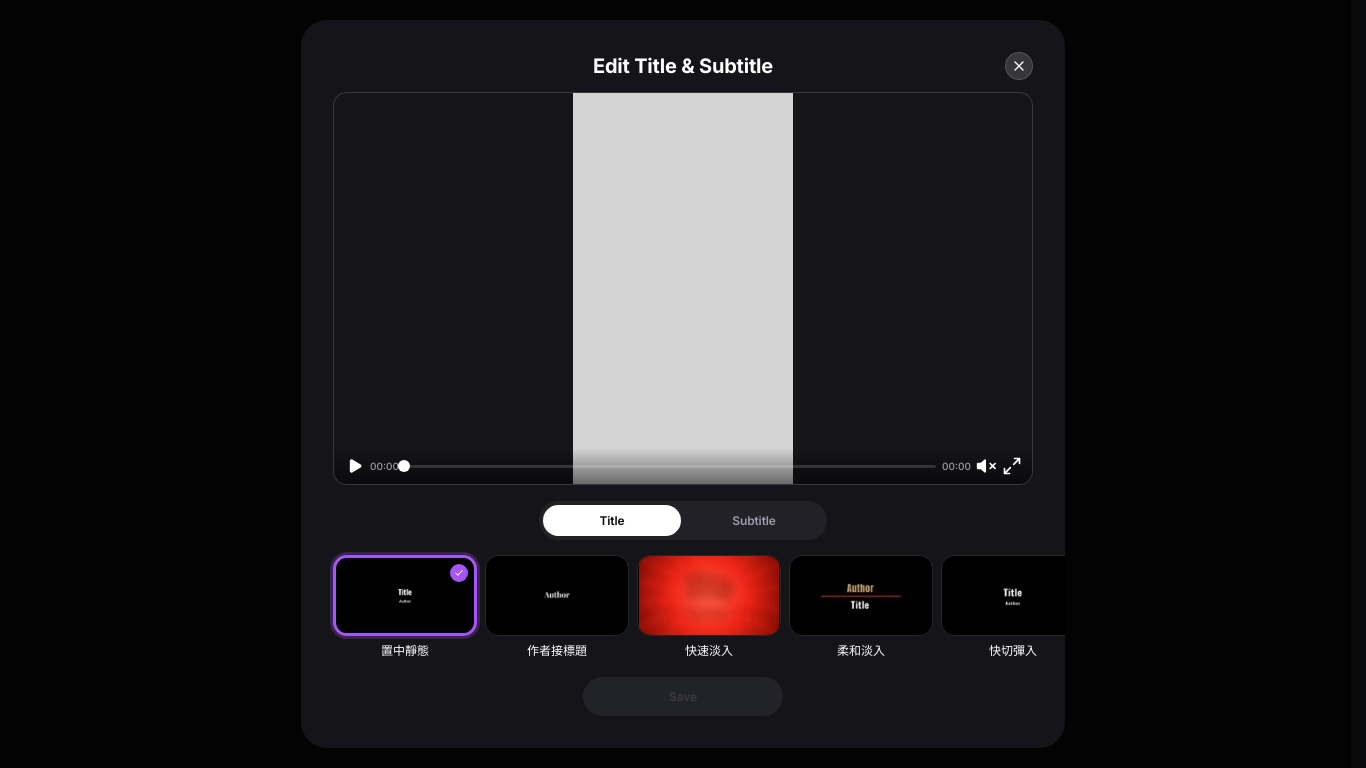
Test case: MV effects draft boundaries › retains tab drafts and disables Save when every choice is reverted
Step 1. Click the radio button labelled "作者接標題" → (557, 608), box [485,555,629,660]
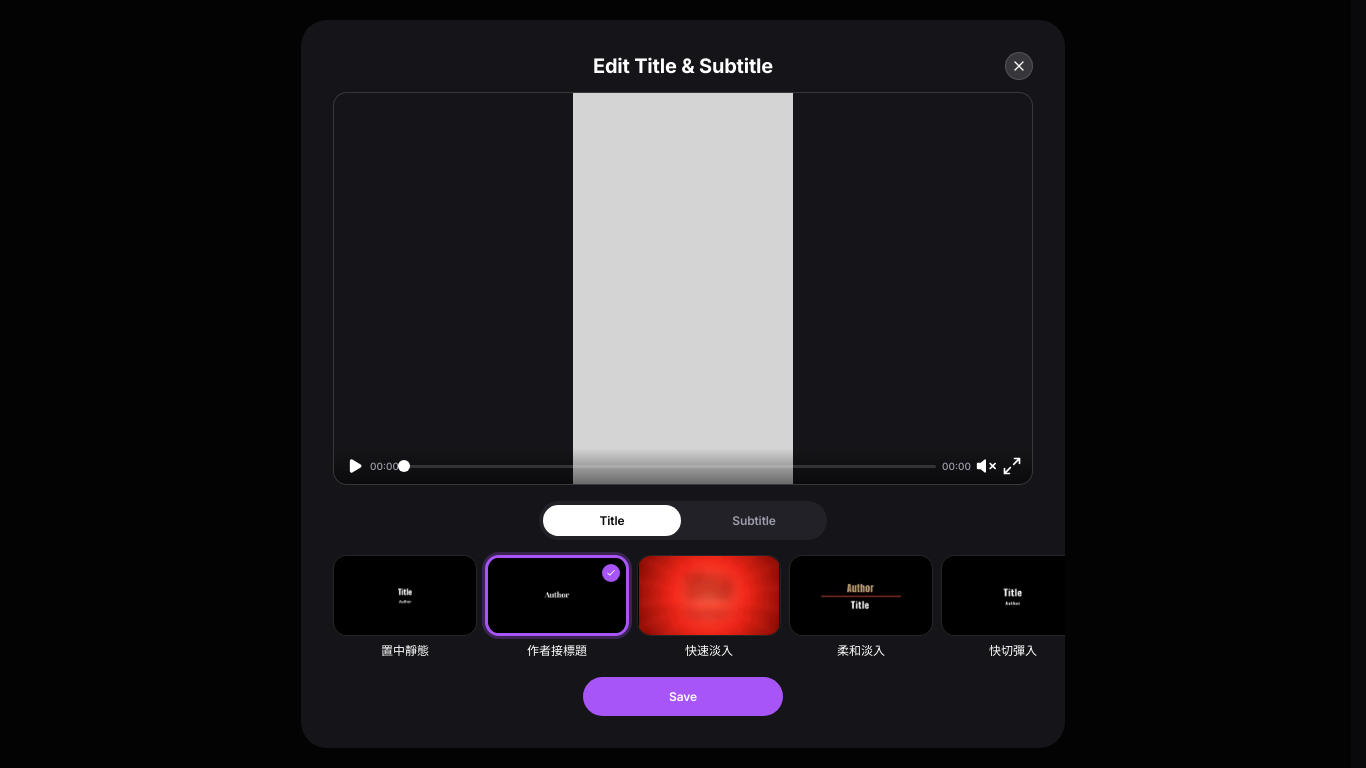
Expected: the button "Save" is enabled, [583,677,783,716]
Step 2. Click the tab "Subtitle" → (754, 520), box [685,505,823,536]
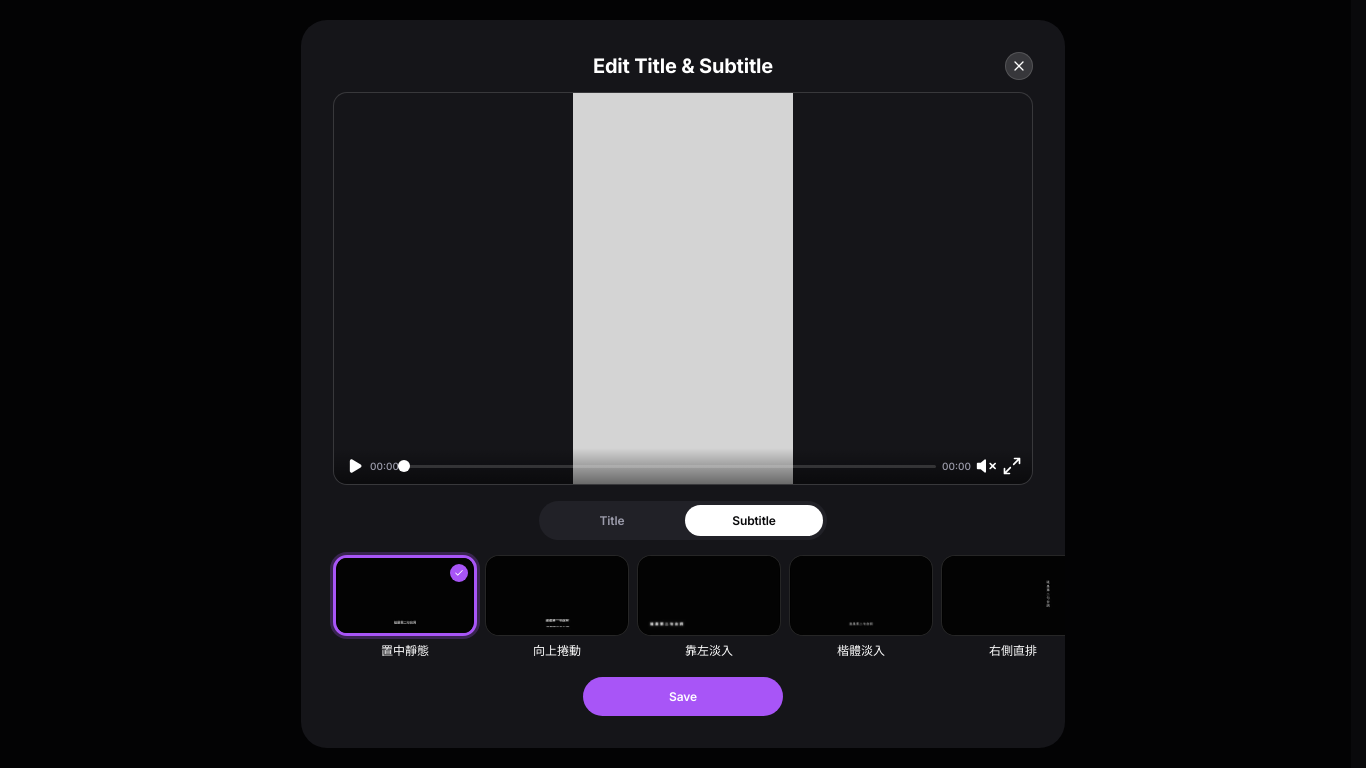
Step 3. Click the tab "Title" → (612, 520), box [543,505,681,536]
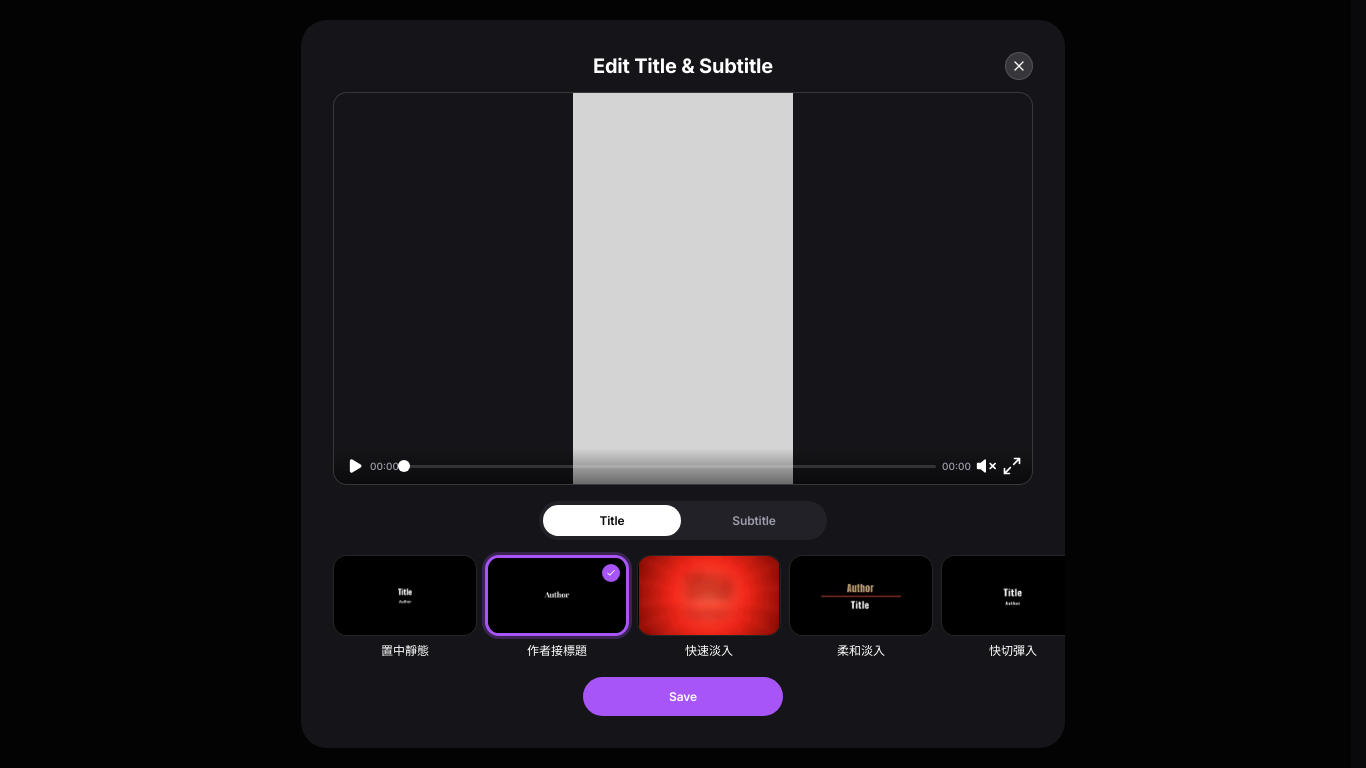
Expected: the radio button labelled "作者接標題" is checked, [485,555,629,660]
Step 4. Click the radio button labelled "置中靜態" → (405, 608), box [333,555,477,660]
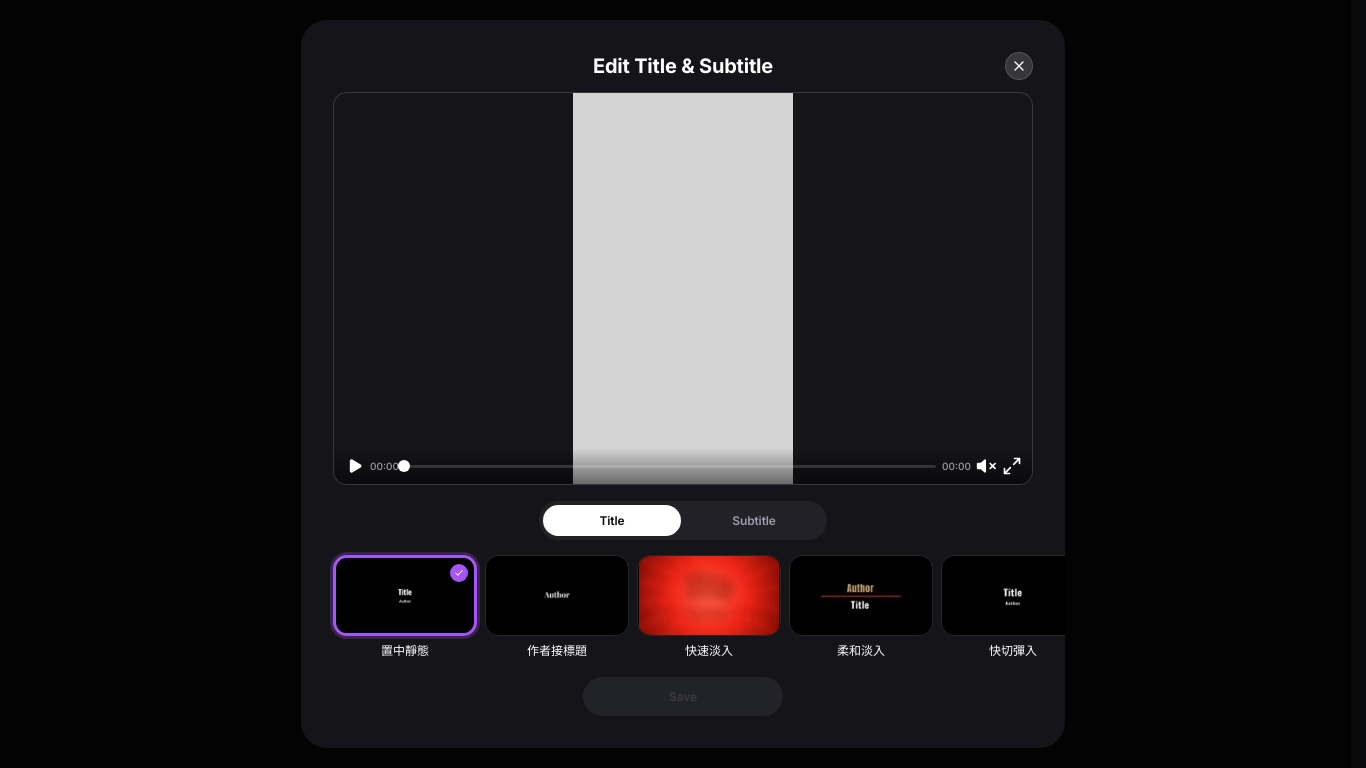
Expected: the button "Save" is disabled, [583,677,783,716]
